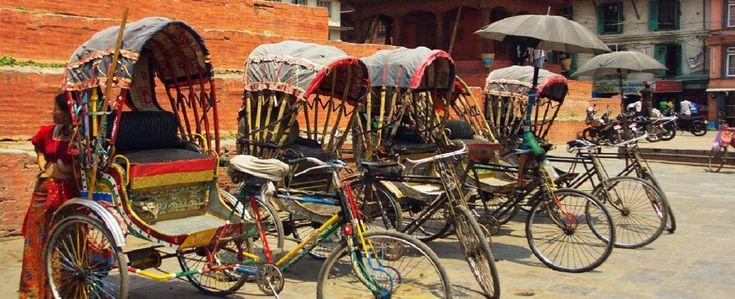Rickshaw: (44, 17, 256, 297), (230, 41, 451, 297), (351, 47, 499, 297), (466, 66, 614, 271), (238, 41, 368, 160), (437, 78, 553, 199), (530, 69, 567, 142)
